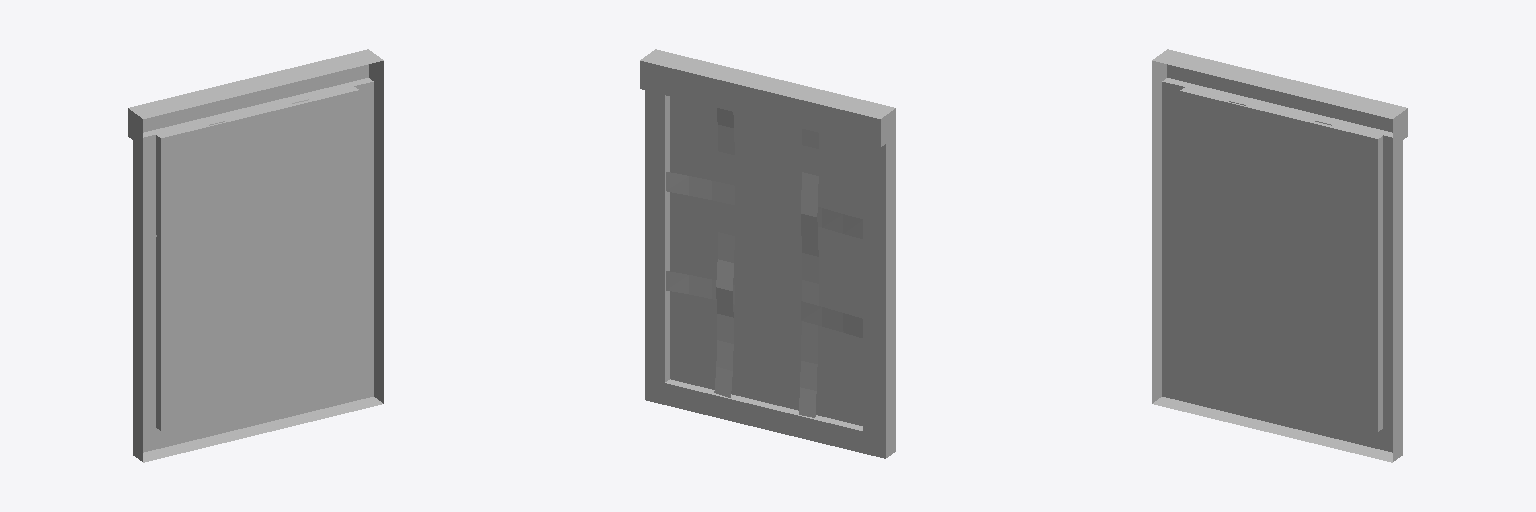
Rendered from window_F2.obj.
3 renders of one model, left to right at view 1: azimuth 30°, elevation 25°; view 2: azimuth 150°, elevation 25°; view 3: azimuth 330°, elevation 25°, orthographic.
Visible parts, largest first — view 1: WindowF2; view 2: WindowF2; view 3: WindowF2.
Part boxes in pixels (left/top/right/bottom): WindowF2: left=128, top=49, right=383, bottom=462; WindowF2: left=640, top=49, right=895, bottom=458; WindowF2: left=1152, top=49, right=1407, bottom=462.
Bounding box in the file's own units: 0.269 × 0.3668 × 0.03.